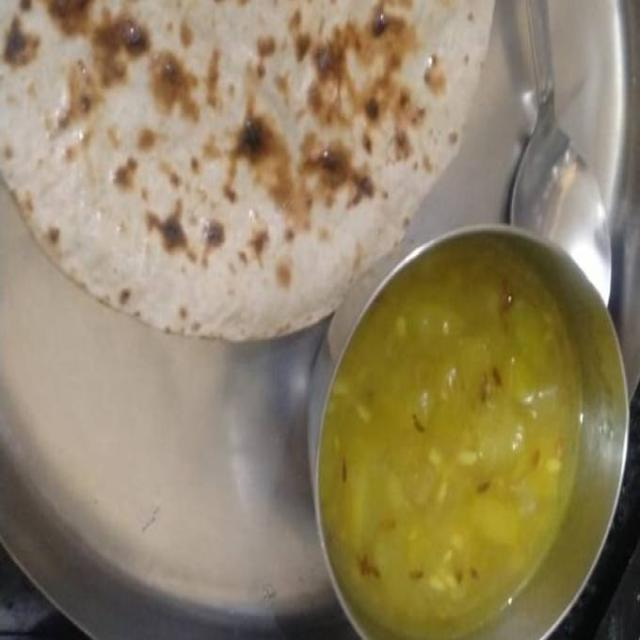ROTI: (0, 0, 497, 340)
